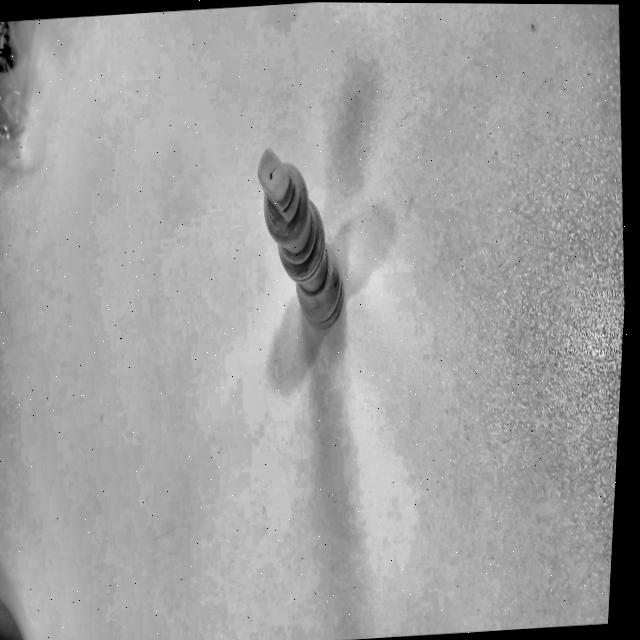white-king: (258, 149, 344, 332)
